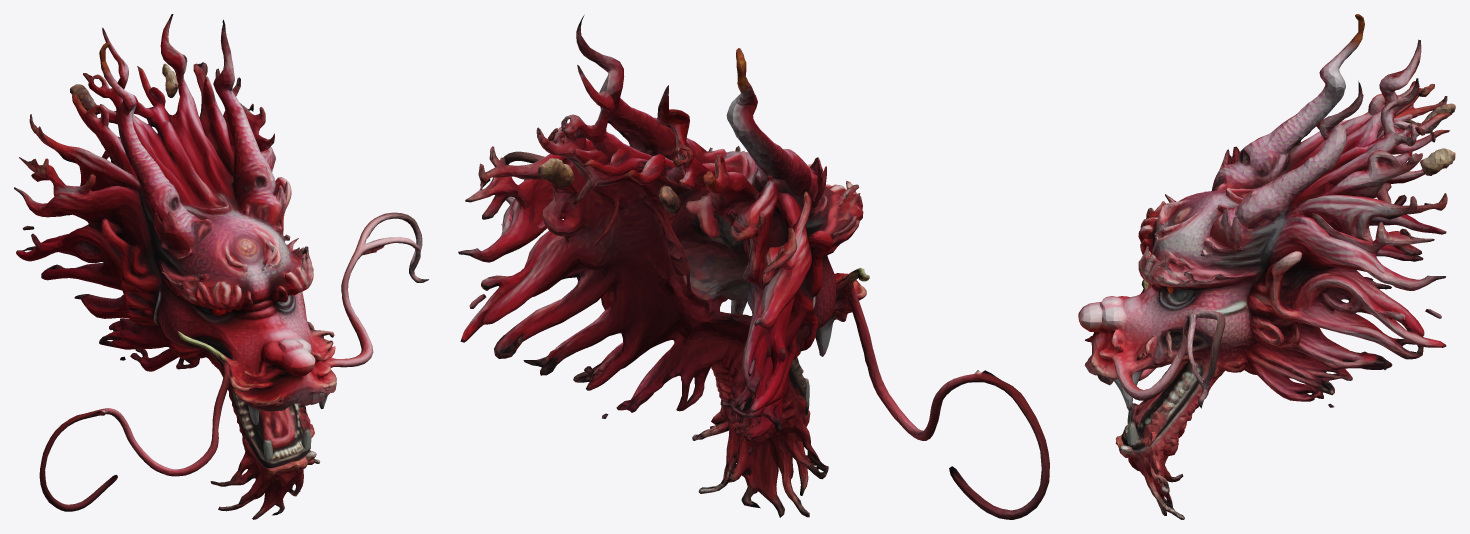
File: standard_trellis_loong.glb
3 renders of one model, left to right at view 1: azimuth 30°, elevation 25°; view 2: azimuth 150°, elevation 25°; view 3: azimuth 270°, elevation 25°, orthographic. The views are drawn at different scales.
Parts seen in each view (by area): view 1: world; view 2: world; view 3: world.
Boxes of the visible parts, <box> form: world: <box>14,14,428,519</box>; world: <box>458,15,1049,519</box>; world: <box>1078,14,1455,519</box>.
Size of the model in its own units: 0.9676 by 0.9909 by 0.7376.
Materials: 1 (1 with a texture image).
